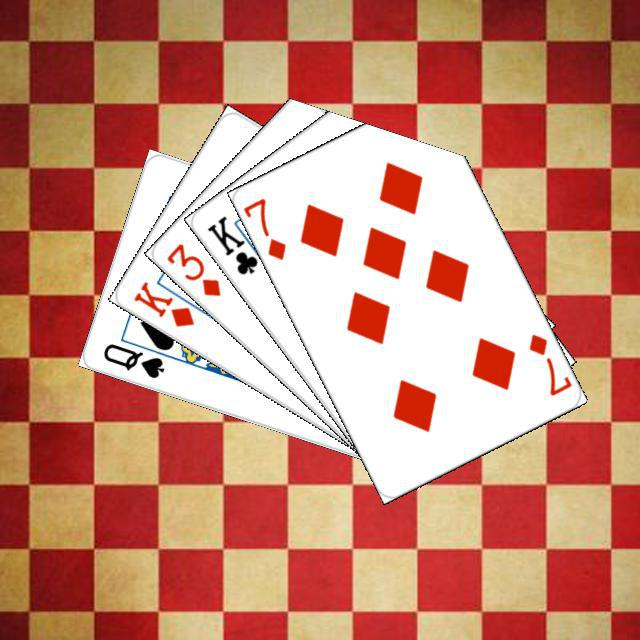3d: (161, 238, 223, 299)
7d: (523, 329, 572, 398), (240, 193, 288, 262)
Kc: (202, 210, 272, 277)
Kd: (128, 276, 196, 329)
Qs: (98, 338, 166, 380)
